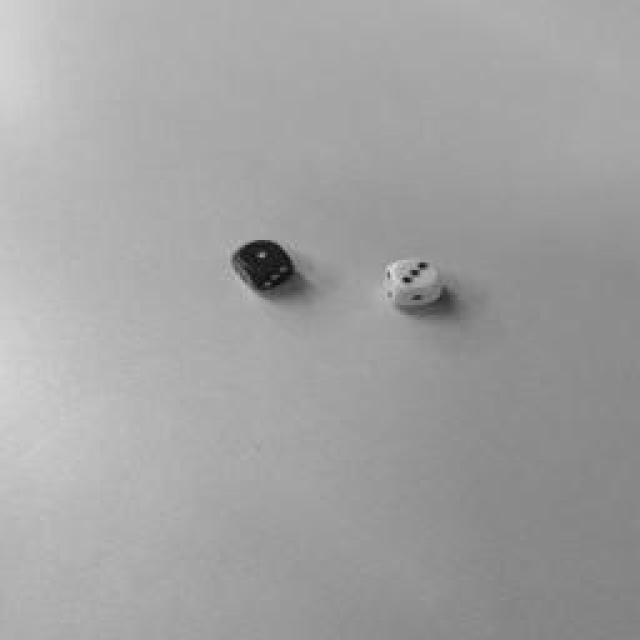dice_1: (238, 240, 290, 272)
dice_3: (391, 259, 439, 289)
